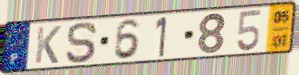1: (154, 15, 168, 59)
5: (236, 8, 263, 53)
6: (113, 17, 143, 62)
8: (197, 12, 228, 55)
K: (33, 25, 63, 65)
S: (64, 21, 100, 64)
